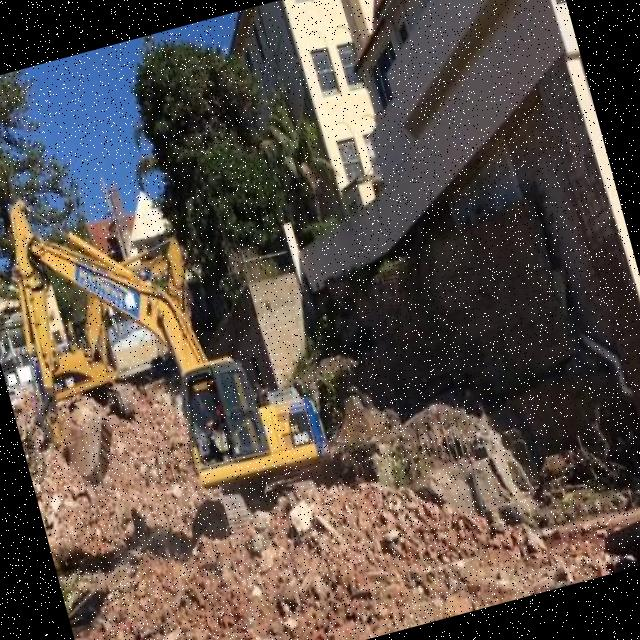Excavator: (0, 137, 347, 573), (30, 290, 134, 433)
